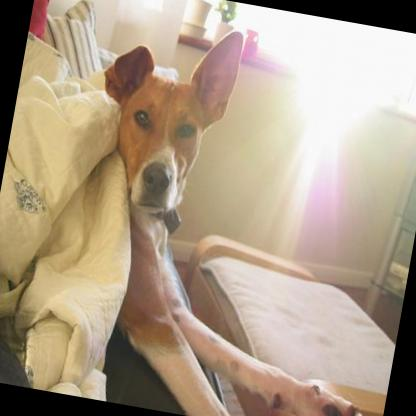basenji: (45, 6, 416, 416)
